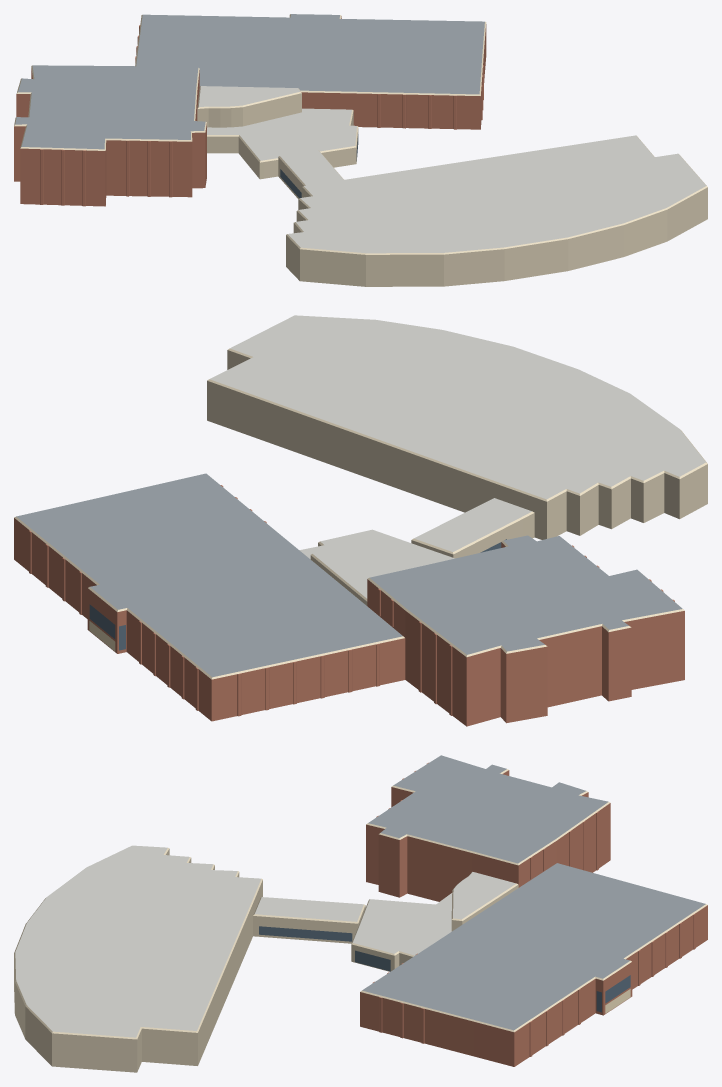
File: detail.glb
The picture shows the model from 3 angles, top to bottom: view 1: azimuth 30°, elevation 25°; view 2: azimuth 150°, elevation 25°; view 3: azimuth 270°, elevation 25°; orthographic projection. The views are drawn at different scales.
Parts seen in each view (by area): view 1: park-expo-and-conference-center; view 2: park-expo-and-conference-center; view 3: park-expo-and-conference-center.
Boxes of the visible parts, bbox=[...] form: park-expo-and-conference-center: bbox=[14, 14, 707, 286]; park-expo-and-conference-center: bbox=[14, 315, 707, 726]; park-expo-and-conference-center: bbox=[14, 755, 707, 1072].
Size of the model in its own units: 210 by 22.2 by 238.
